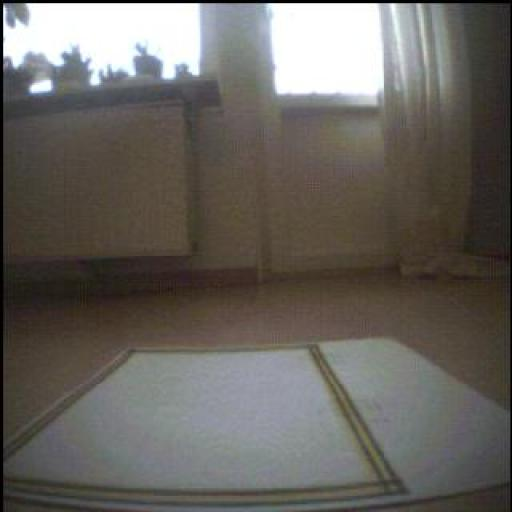Pad: (4, 341, 510, 512)
